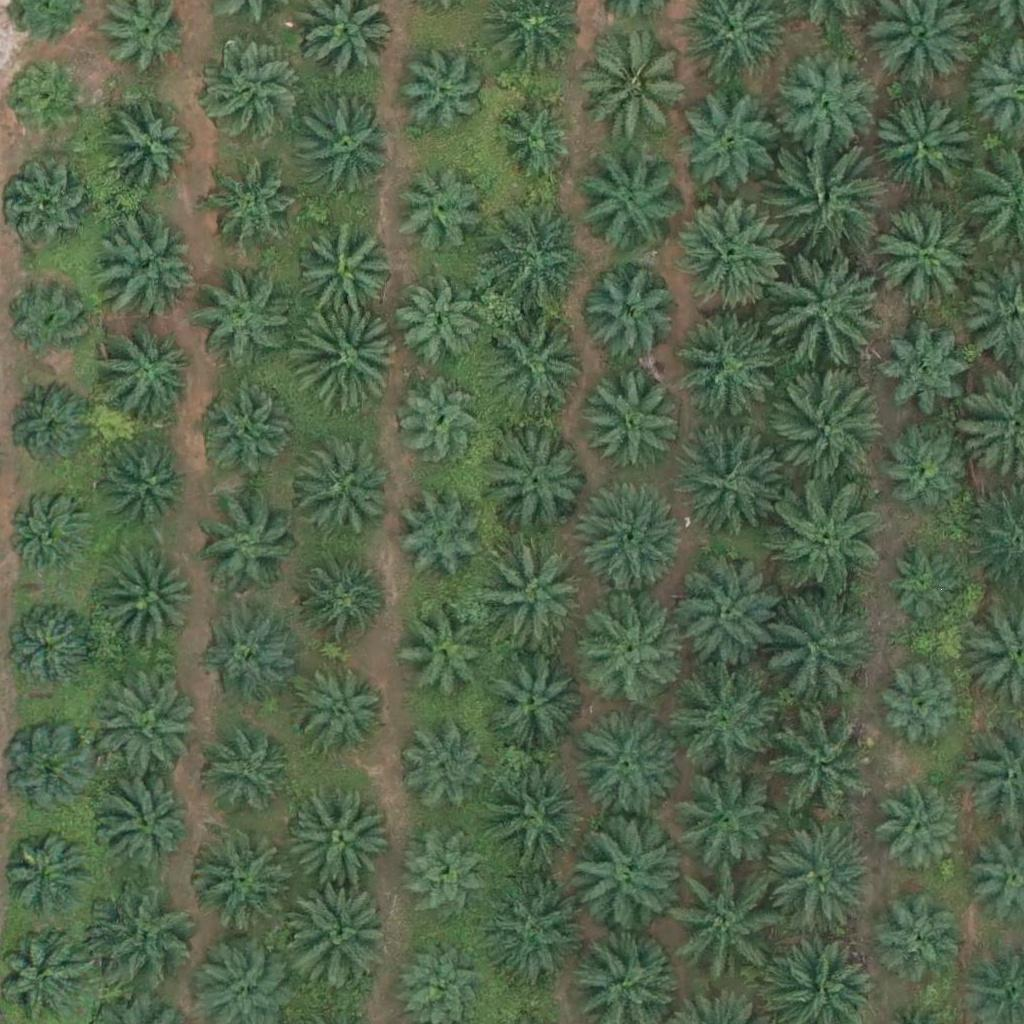Kelapa_Sawit: (675, 421, 788, 535), (767, 820, 880, 933), (563, 824, 676, 937), (765, 147, 878, 260), (774, 376, 887, 489), (668, 557, 781, 670), (675, 311, 788, 424), (572, 148, 685, 261), (574, 483, 687, 596), (480, 545, 593, 658), (478, 303, 591, 416), (479, 203, 592, 316), (184, 827, 296, 941), (769, 481, 881, 595), (478, 759, 590, 873), (289, 302, 401, 416), (93, 668, 205, 782), (676, 868, 788, 981), (479, 877, 591, 990), (287, 880, 399, 993), (87, 877, 199, 990), (870, 199, 982, 312), (771, 259, 883, 372), (760, 591, 872, 704), (765, 701, 877, 814), (667, 756, 779, 869), (666, 665, 778, 778), (674, 195, 786, 308), (573, 712, 685, 825), (282, 781, 394, 894), (582, 32, 694, 145), (877, 321, 977, 422), (577, 266, 677, 367), (585, 370, 685, 471), (581, 607, 681, 708), (477, 651, 577, 752), (488, 434, 588, 535), (287, 659, 387, 760), (300, 226, 400, 327), (192, 274, 292, 375), (194, 384, 294, 485), (199, 728, 299, 829), (99, 320, 199, 421), (867, 100, 967, 201), (776, 55, 876, 156), (676, 90, 776, 191), (200, 40, 300, 141), (288, 437, 388, 537), (197, 494, 297, 594), (197, 618, 297, 718), (98, 101, 198, 201), (101, 217, 201, 317), (102, 554, 202, 654), (95, 775, 195, 875), (295, 95, 395, 195), (391, 170, 479, 258), (395, 282, 483, 370), (400, 608, 488, 696), (405, 728, 493, 816), (293, 553, 381, 641), (214, 171, 302, 259), (101, 437, 189, 525), (2, 58, 90, 146), (6, 276, 94, 364), (7, 388, 95, 476), (7, 493, 95, 581), (491, 91, 579, 179), (875, 894, 962, 982), (878, 782, 965, 870), (878, 658, 965, 746), (889, 425, 976, 513), (397, 379, 484, 467), (398, 498, 485, 586), (400, 833, 487, 921), (4, 159, 91, 247), (398, 45, 485, 133), (887, 548, 962, 624)
